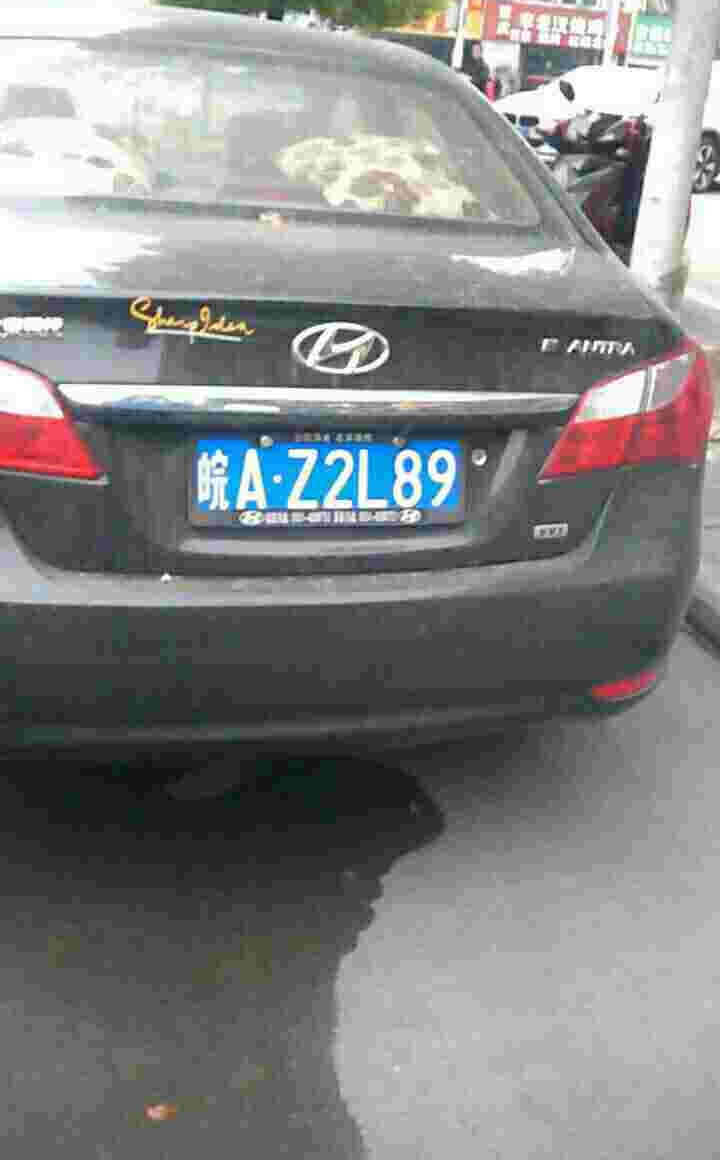license_plate: (196, 431, 471, 512)
